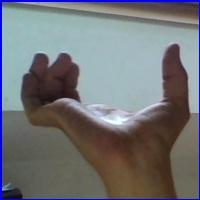B: (15, 37, 194, 183)
